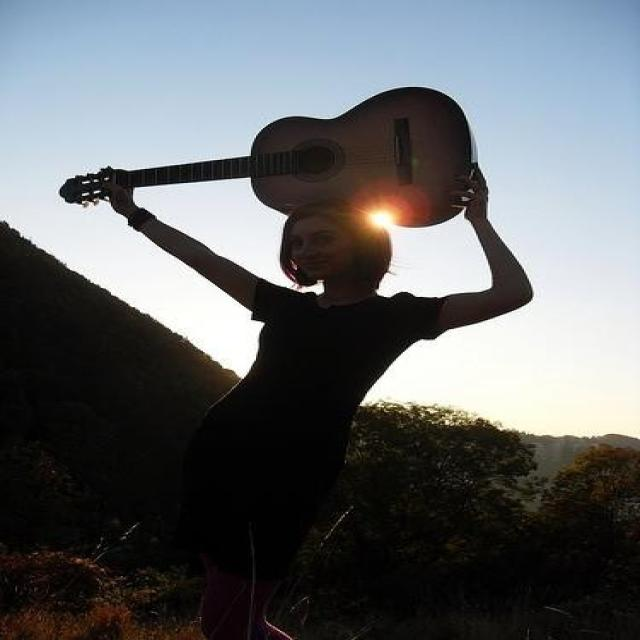guitar: (56, 84, 483, 226)
